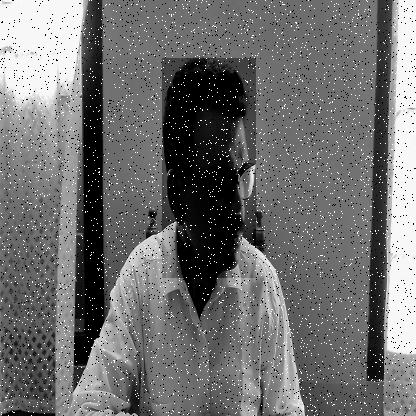Distracted: (162, 58, 256, 278)
